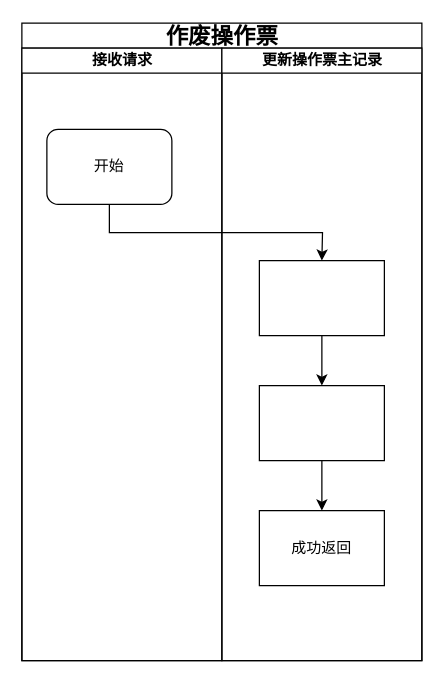
The diagram is 444 pixels wide and 683 high, and some of its shapes have lost their labels. The centre of each missing label's shape, as x and y in pixels:
"更新 操作票主记录" belongs at [321,422].
"转换请求参数为 操作票主记录数据对象" belongs at [321,297].
